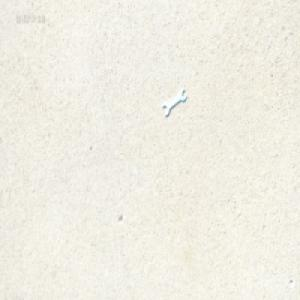Wrench: (163, 89, 186, 117)
